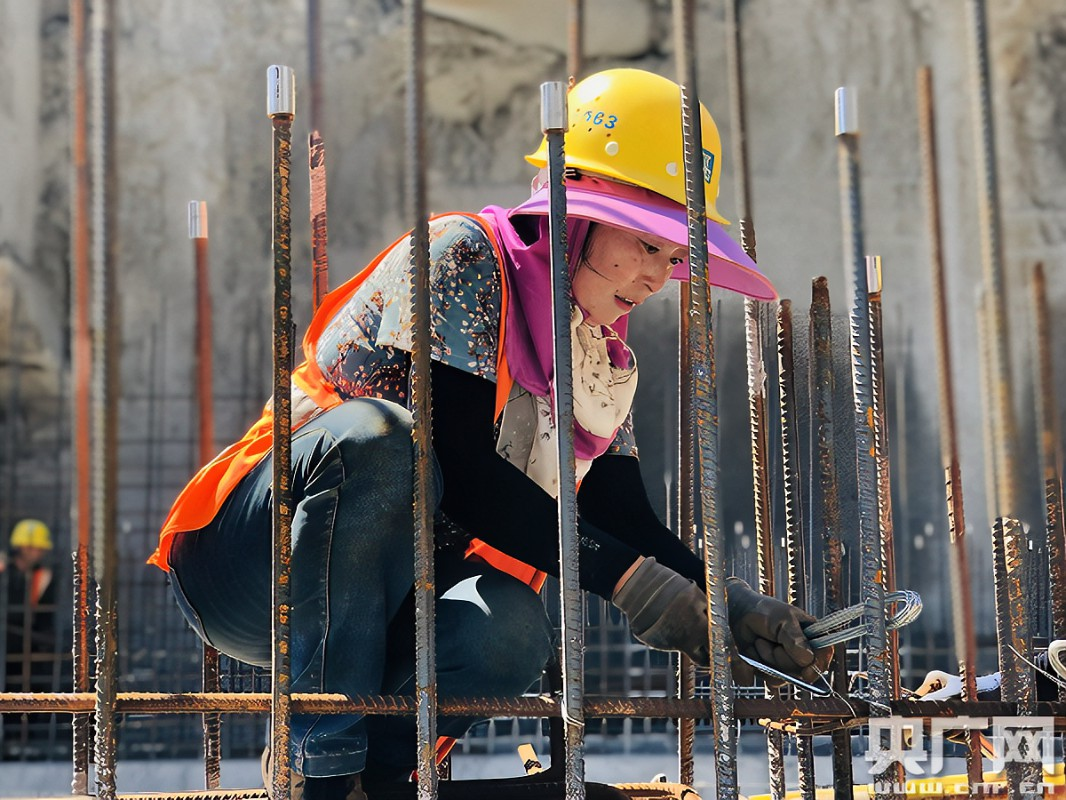safetyhat: (202, 55, 810, 776)
